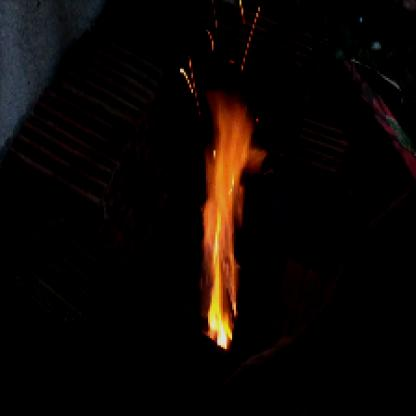Fire: (188, 84, 276, 354)
